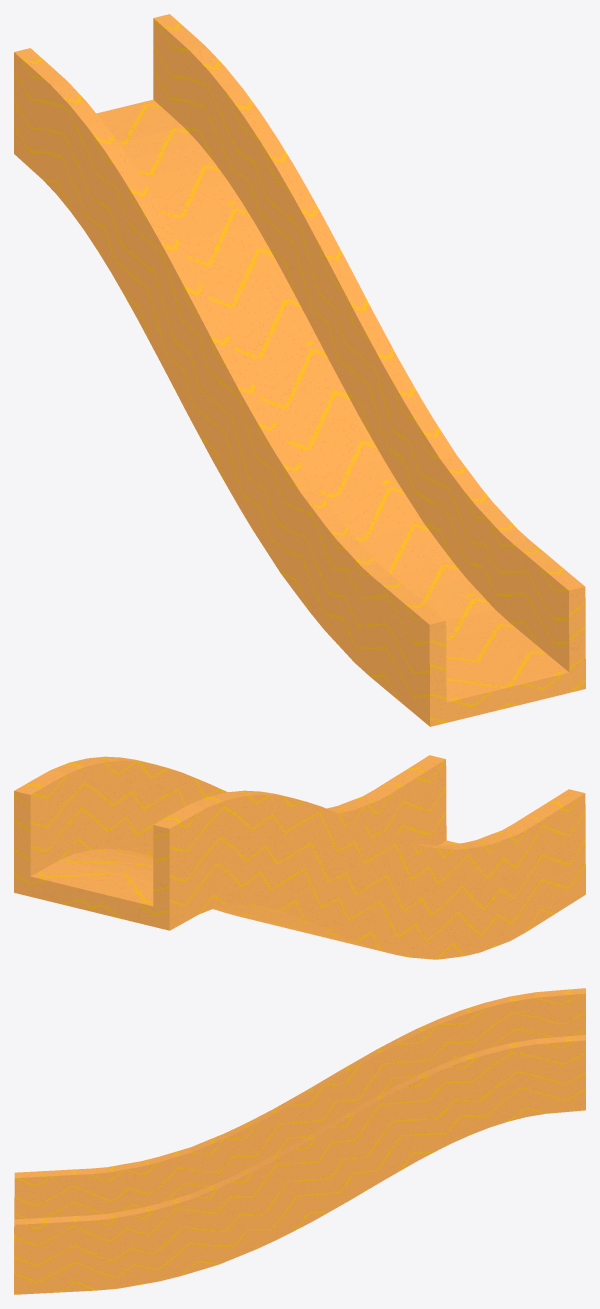
The model's file is rampCurvedSlide.glb.
3 renders of one model, top to bottom at view 1: azimuth 30°, elevation 25°; view 2: azimuth 150°, elevation 25°; view 3: azimuth 270°, elevation 25°, orthographic. The views are drawn at different scales.
Visible parts, largest first — view 1: rampCurvedSlide; view 2: rampCurvedSlide; view 3: rampCurvedSlide.
Boxes of the visible parts, left/top/right/bottom form: rampCurvedSlide: left=14, top=14, right=585, bottom=726; rampCurvedSlide: left=14, top=755, right=585, bottom=959; rampCurvedSlide: left=14, top=988, right=585, bottom=1294.
Bounding box in the file's own units: 0.5 × 1.14 × 2.31.
Materials: 1 (1 with a texture image).
